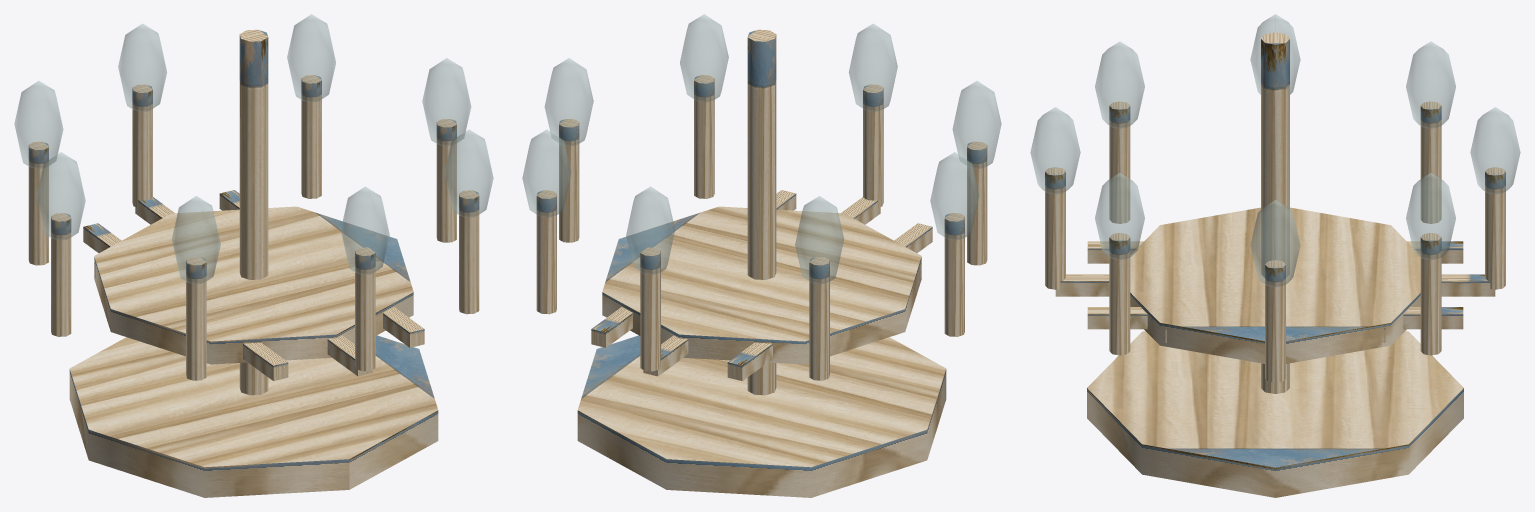
The model's file is chandelier.gltf.
3 views of the same model, side by side, from view 1: azimuth 30°, elevation 25°; view 2: azimuth 150°, elevation 25°; view 3: azimuth 270°, elevation 25° (orthographic).
Visible parts, largest first — view 1: kit:0:furniture:gold:, kit:0:furniture:glass:; view 2: kit:0:furniture:gold:, kit:0:furniture:glass:; view 3: kit:0:furniture:gold:, kit:0:furniture:glass:.
Boxes of the visible parts, x1,y1,x2,y2 form: kit:0:furniture:gold:: (28, 29, 479, 497); kit:0:furniture:glass:: (14, 14, 493, 283); kit:0:furniture:gold:: (536, 29, 987, 497); kit:0:furniture:glass:: (522, 14, 1001, 283); kit:0:furniture:gold:: (1045, 32, 1505, 497); kit:0:furniture:glass:: (1030, 14, 1520, 287).
Bounding box in the file's own units: 1.17 × 1 × 1.17.
2 materials, 1 textured.
